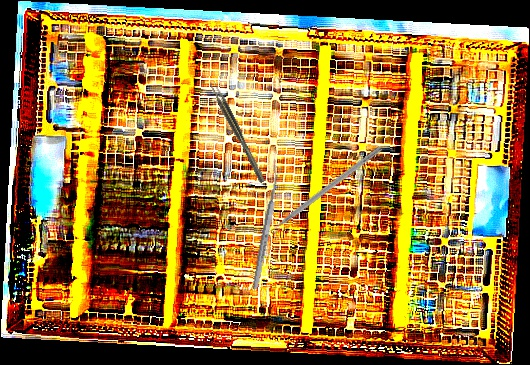Chopper: (257, 139, 383, 239)
Surgical Spoon: (251, 165, 283, 290)
Tissue Forceps: (208, 80, 266, 185)
